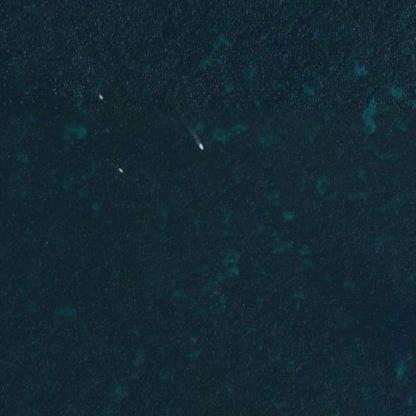ship: (111, 161, 127, 176), (193, 138, 207, 154), (93, 86, 105, 102)
